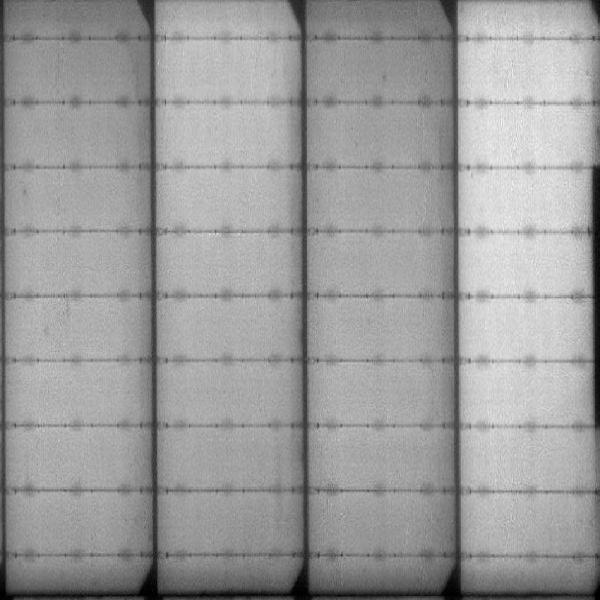black_border: (588, 163, 600, 434)
